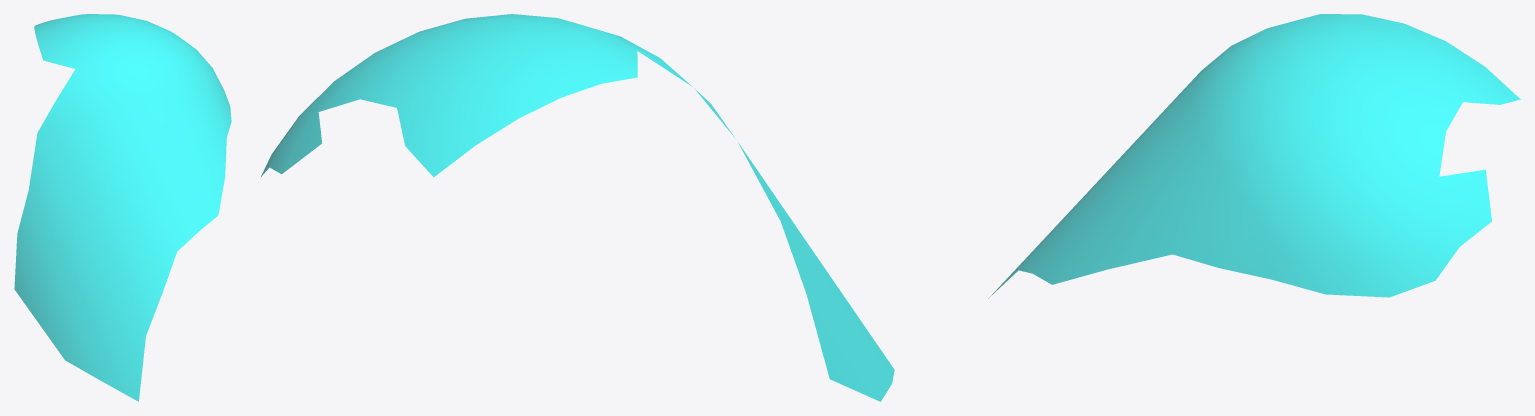
Rendered from firstFrame3.glb.
3 views of the same model, side by side, from view 1: azimuth 30°, elevation 25°; view 2: azimuth 150°, elevation 25°; view 3: azimuth 270°, elevation 25° (orthographic). The views are drawn at different scales.
Visible parts, largest first — view 1: pasted__asdasd; view 2: pasted__asdasd; view 3: pasted__asdasd.
Part boxes in pixels (x1=…): pasted__asdasd: x1=14, y1=14, x2=231, y2=401; pasted__asdasd: x1=261, y1=14, x2=894, y2=401; pasted__asdasd: x1=988, y1=14, x2=1520, y2=298.
Bounding box in the file's own units: 0.4491 × 0.4394 × 0.5539.
